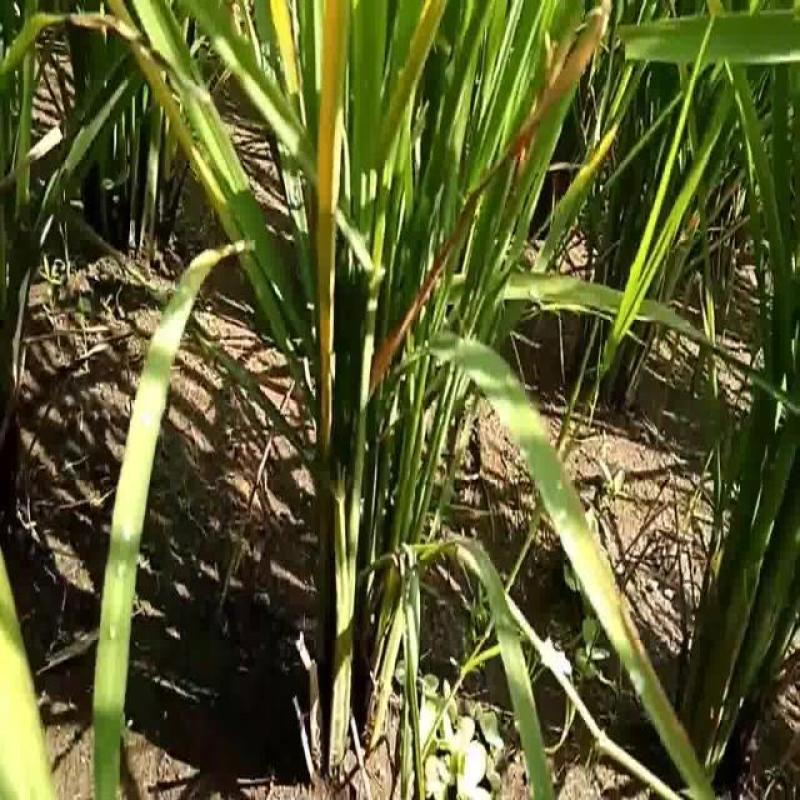Rice Tungro: (308, 5, 354, 426), (510, 11, 615, 151), (389, 2, 451, 127), (268, 1, 300, 105)
